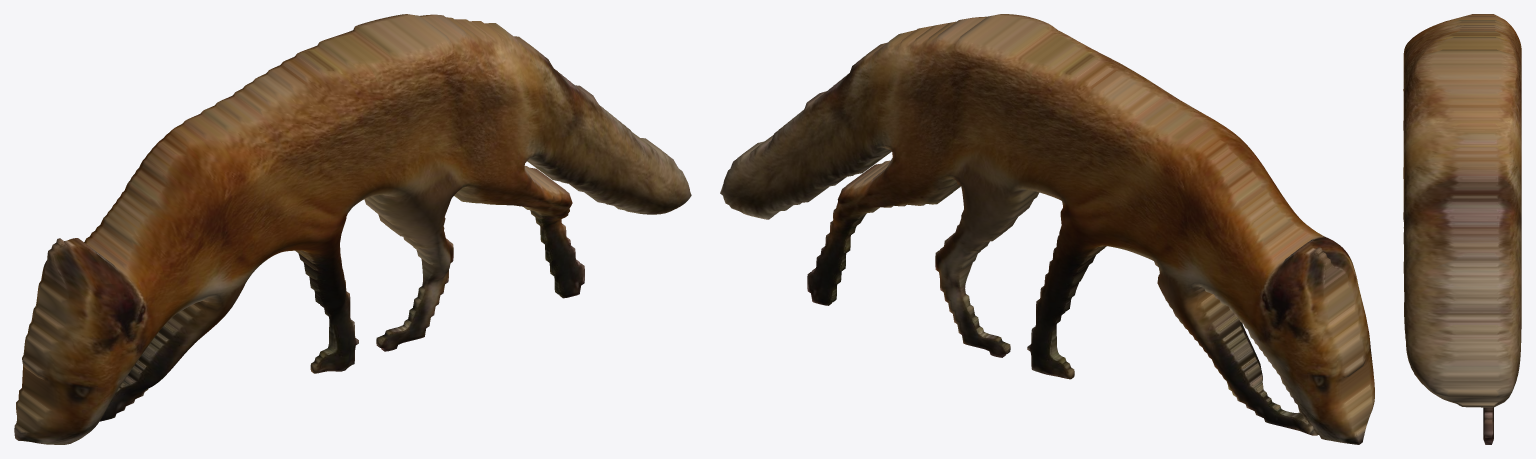
Rendered from red_fox_2262475.glb.
3 renders of one model, left to right at view 1: azimuth 30°, elevation 25°; view 2: azimuth 150°, elevation 25°; view 3: azimuth 270°, elevation 25°, orthographic. The views are drawn at different scales.
Visible parts, largest first — view 1: red_fox_2262475; view 2: red_fox_2262475; view 3: red_fox_2262475.
Boxes of the visible parts, <box> form: red_fox_2262475: <box>14,14,691,444</box>; red_fox_2262475: <box>720,14,1374,444</box>; red_fox_2262475: <box>1403,14,1521,444</box>.
Bounding box in the file's own units: 1.98 × 0.9521 × 0.3292.
Materials: 1 (1 with a texture image).
